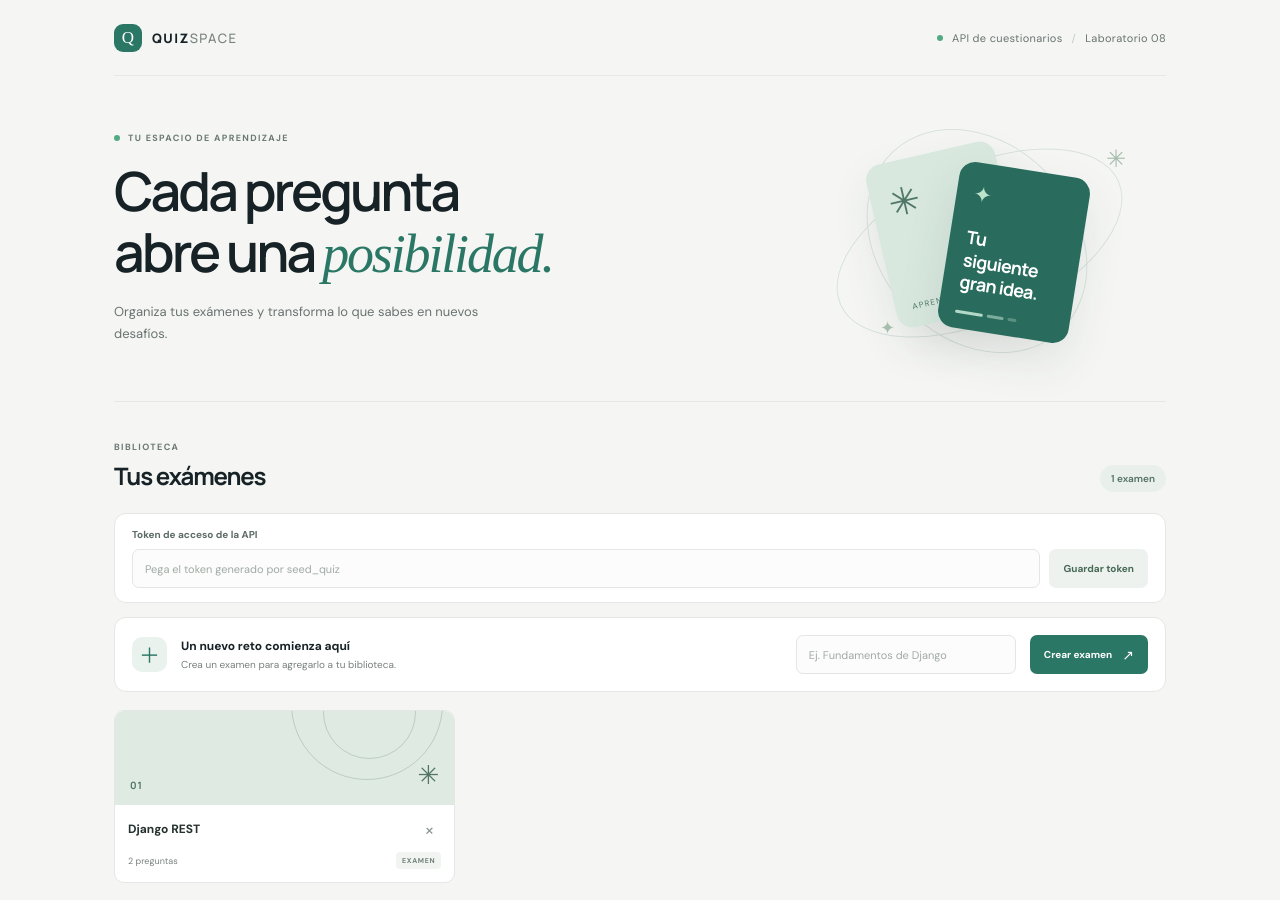
it: ExamManager › creates an exam and removes it only after server confirmation
expect the heading "Django REST" is shown: met, box [128,821,200,837]
Type "React" into the field named "Título del examen".
click(906, 654); type("React")  # box [796,635,1016,674]
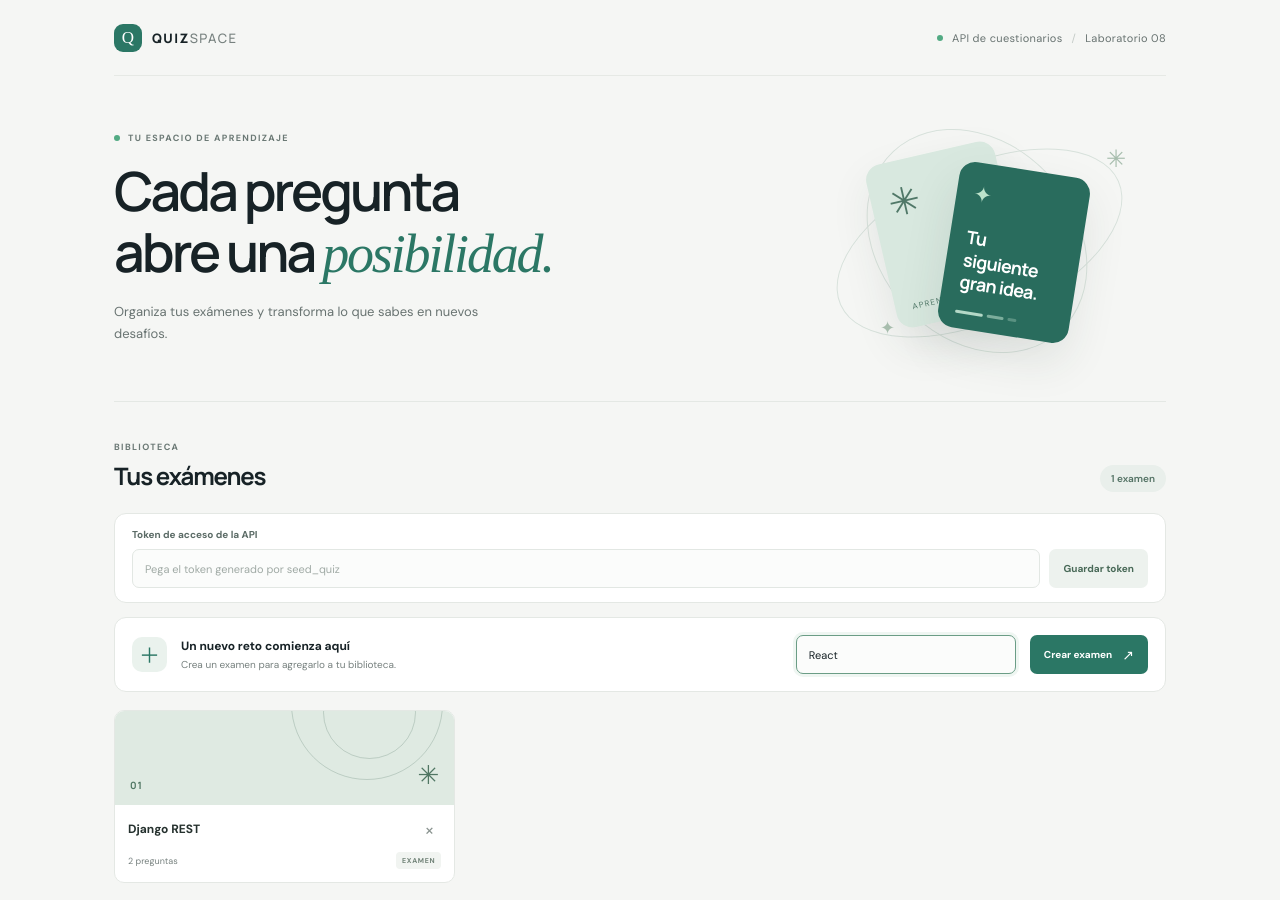
Click the button "Crear examen ↗".
click(1089, 654)  # box [1030,635,1148,674]
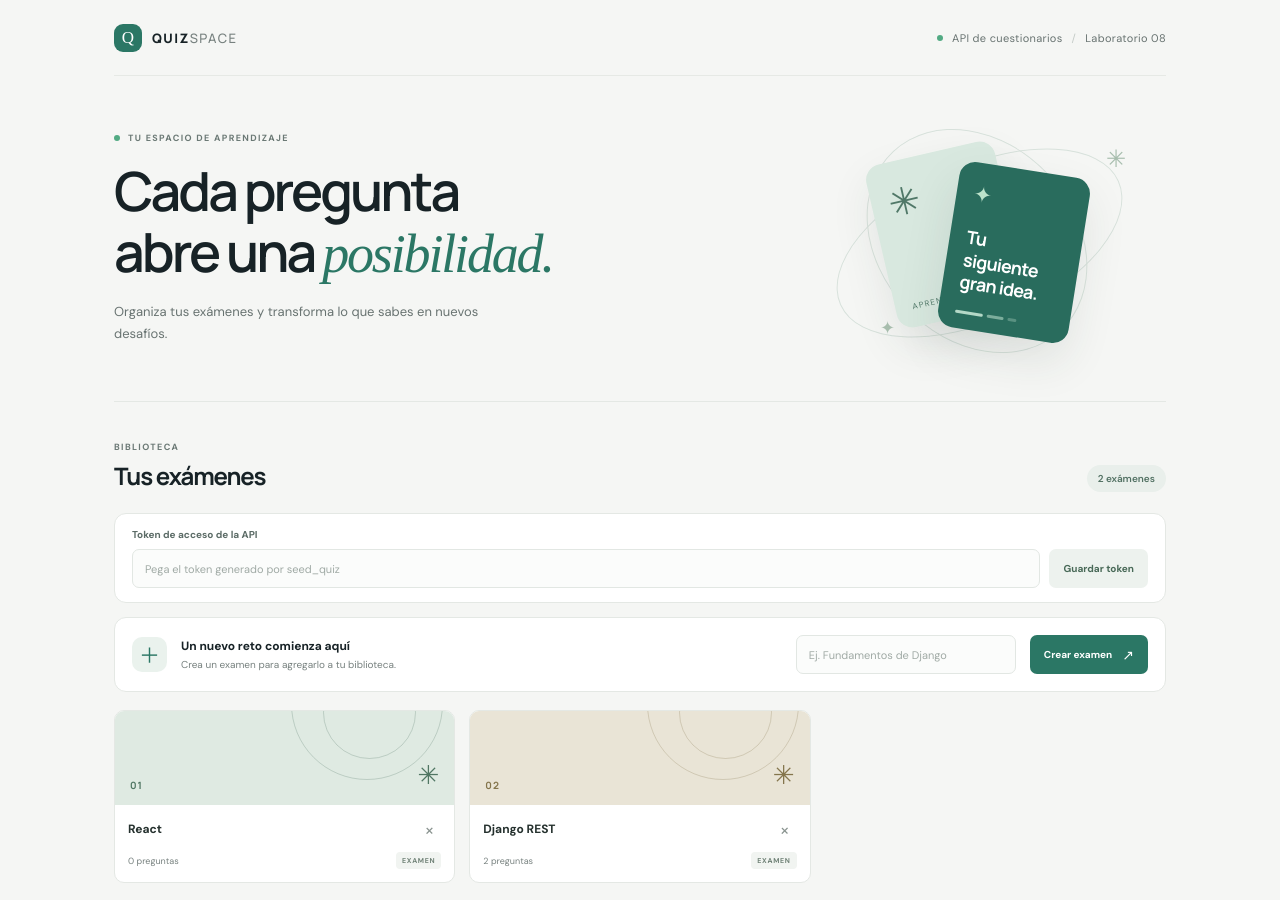
expect the heading "React" is shown: met, box [128,821,162,837]
Click the button named "Eliminar React".
click(429, 829)  # box [417,817,441,841]
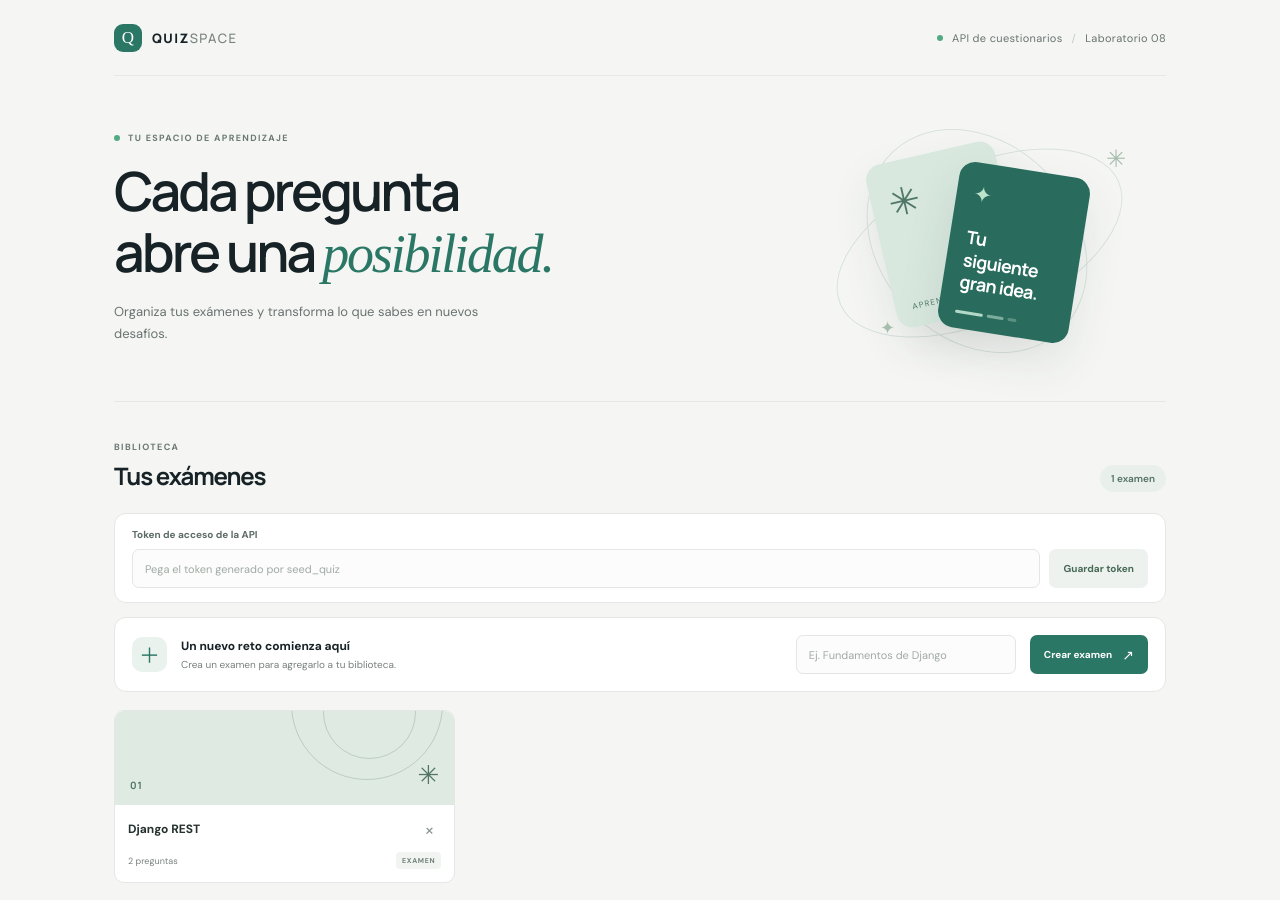
expect the heading "React" is gone: met
